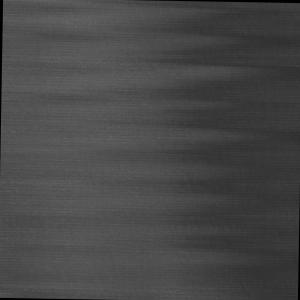Wrinkle: (1, 1, 300, 276)
